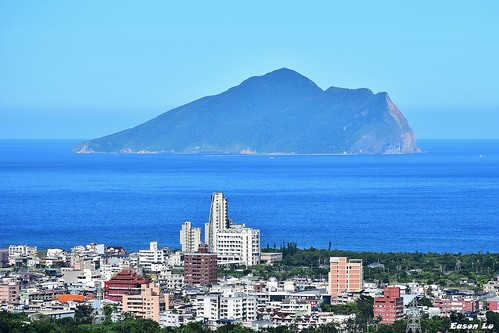turtleIsland: (71, 62, 421, 156)
